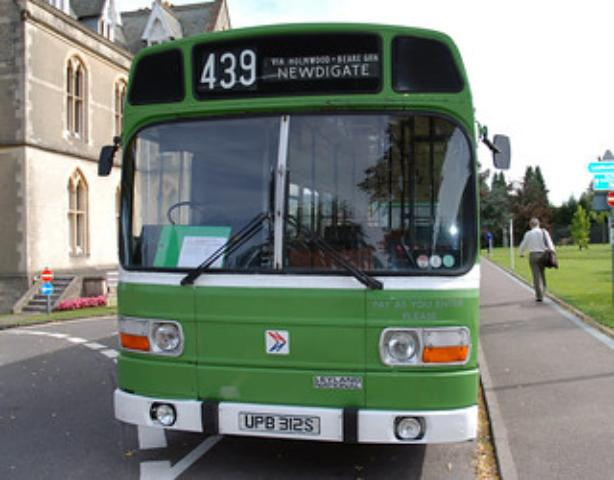bus: (96, 21, 509, 447)
